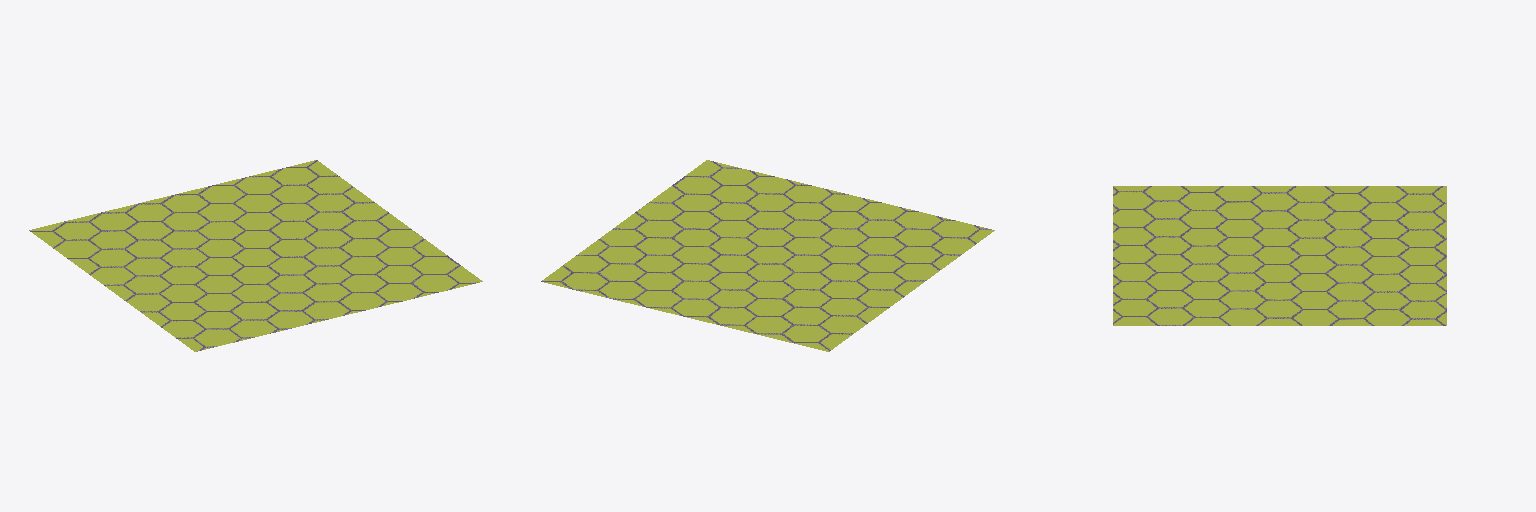
3 views of the same model, side by side, from view 1: azimuth 30°, elevation 25°; view 2: azimuth 150°, elevation 25°; view 3: azimuth 270°, elevation 25° (orthographic).
Parts seen in each view (by area): view 1: 平面; view 2: 平面; view 3: 平面.
Part boxes in pixels (x1,y1,x2,y2): 平面: (29,160,482,351); 平面: (541,160,994,351); 平面: (1113,186,1446,325).
Size of the model in its own units: 2 by 0 by 2.
Materials: 1 (1 with a texture image).